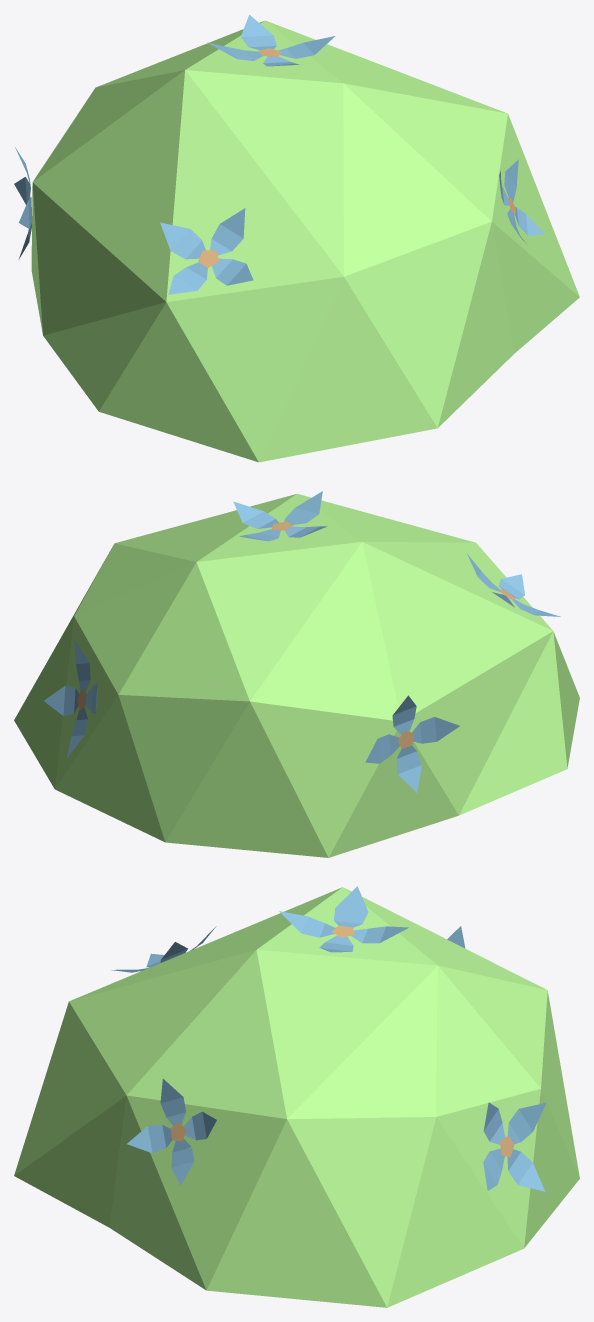
File: FlowerBush_h_m_05.fbx
The picture shows the model from 3 angles, top to bottom: view 1: azimuth 30°, elevation 25°; view 2: azimuth 150°, elevation 25°; view 3: azimuth 270°, elevation 25°; orthographic projection. The views are drawn at different scales.
Parts seen in each view (by area): view 1: FlowerBush_h_m_05; view 2: FlowerBush_h_m_05; view 3: FlowerBush_h_m_05.
Boxes of the visible parts, box(x1,y1,x2,y2) form: FlowerBush_h_m_05: box(14, 15, 579, 462); FlowerBush_h_m_05: box(14, 491, 579, 857); FlowerBush_h_m_05: box(14, 886, 579, 1307).
Size of the model in its own units: 165 by 86.31 by 165.
